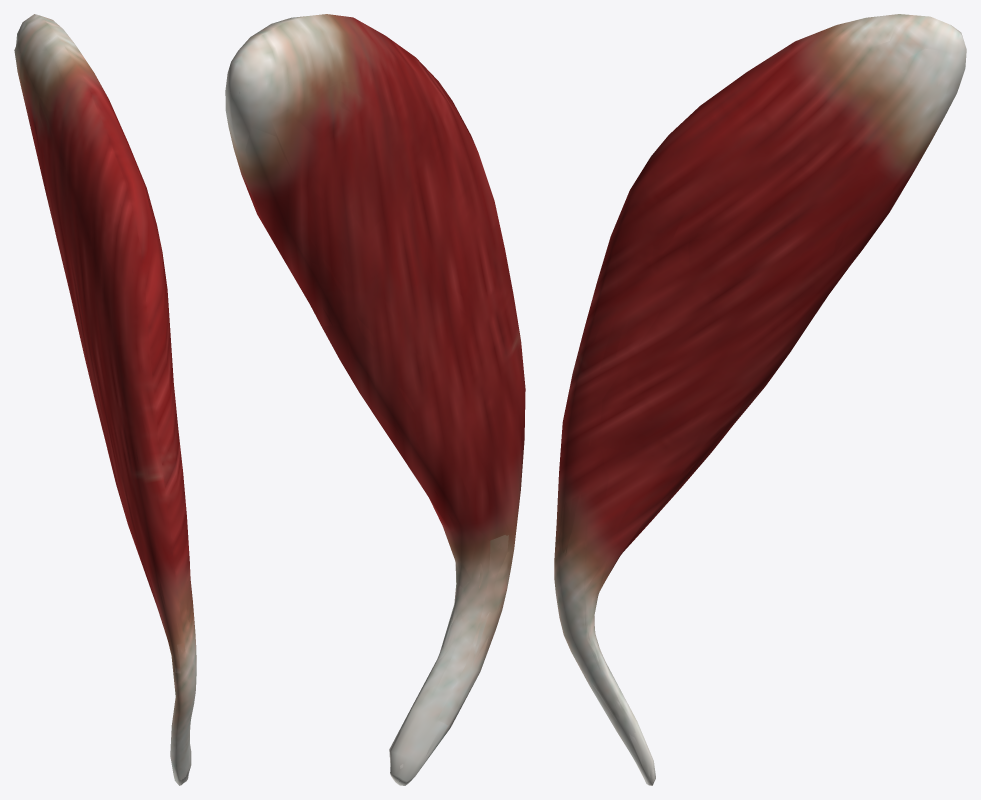
File: R Vastus lateralis.fbx
3 views of the same model, side by side, from view 1: azimuth 30°, elevation 25°; view 2: azimuth 150°, elevation 25°; view 3: azimuth 270°, elevation 25° (orthographic). The views are drawn at different scales.
Visible parts, largest first — view 1: R Vastus lateralis, R Vastus lateralis low, R Vastus lateralis high; view 2: R Vastus lateralis, R Vastus lateralis low, R Vastus lateralis high; view 3: R Vastus lateralis, R Vastus lateralis low, R Vastus lateralis high.
Boxes of the visible parts, box(x1,y1,x2,y2) form: R Vastus lateralis: box(14, 14, 196, 785); R Vastus lateralis low: box(15, 16, 193, 785); R Vastus lateralis high: box(16, 21, 192, 780); R Vastus lateralis: box(225, 14, 525, 785); R Vastus lateralis low: box(226, 15, 525, 784); R Vastus lateralis high: box(228, 26, 521, 781); R Vastus lateralis: box(554, 14, 966, 785); R Vastus lateralis low: box(560, 15, 966, 785); R Vastus lateralis high: box(557, 20, 956, 780).
Size of the model in its own units: 1.16 by 9.35 by 4.59.
Materials: 1 (1 with a texture image).
